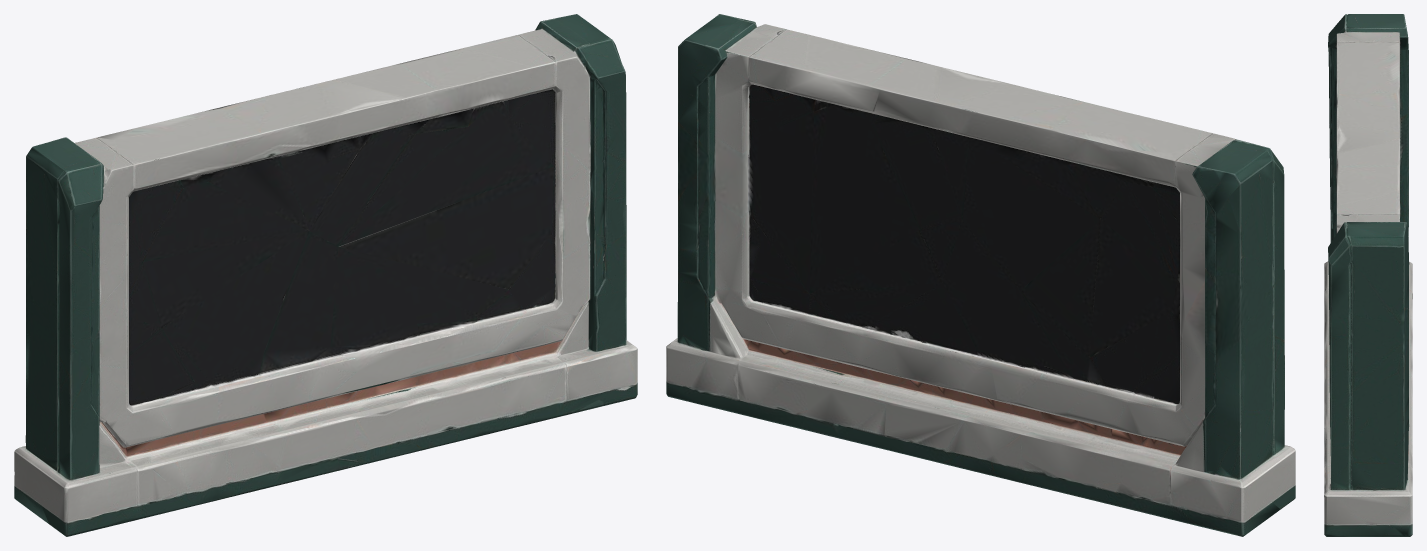
File: carbon-display.glb
3 renders of one model, left to right at view 1: azimuth 30°, elevation 25°; view 2: azimuth 150°, elevation 25°; view 3: azimuth 270°, elevation 25°, orthographic. The views are drawn at different scales.
Size of the model in its own units: 1.9 by 1.12 by 0.3048.
1 material, 1 textured.
